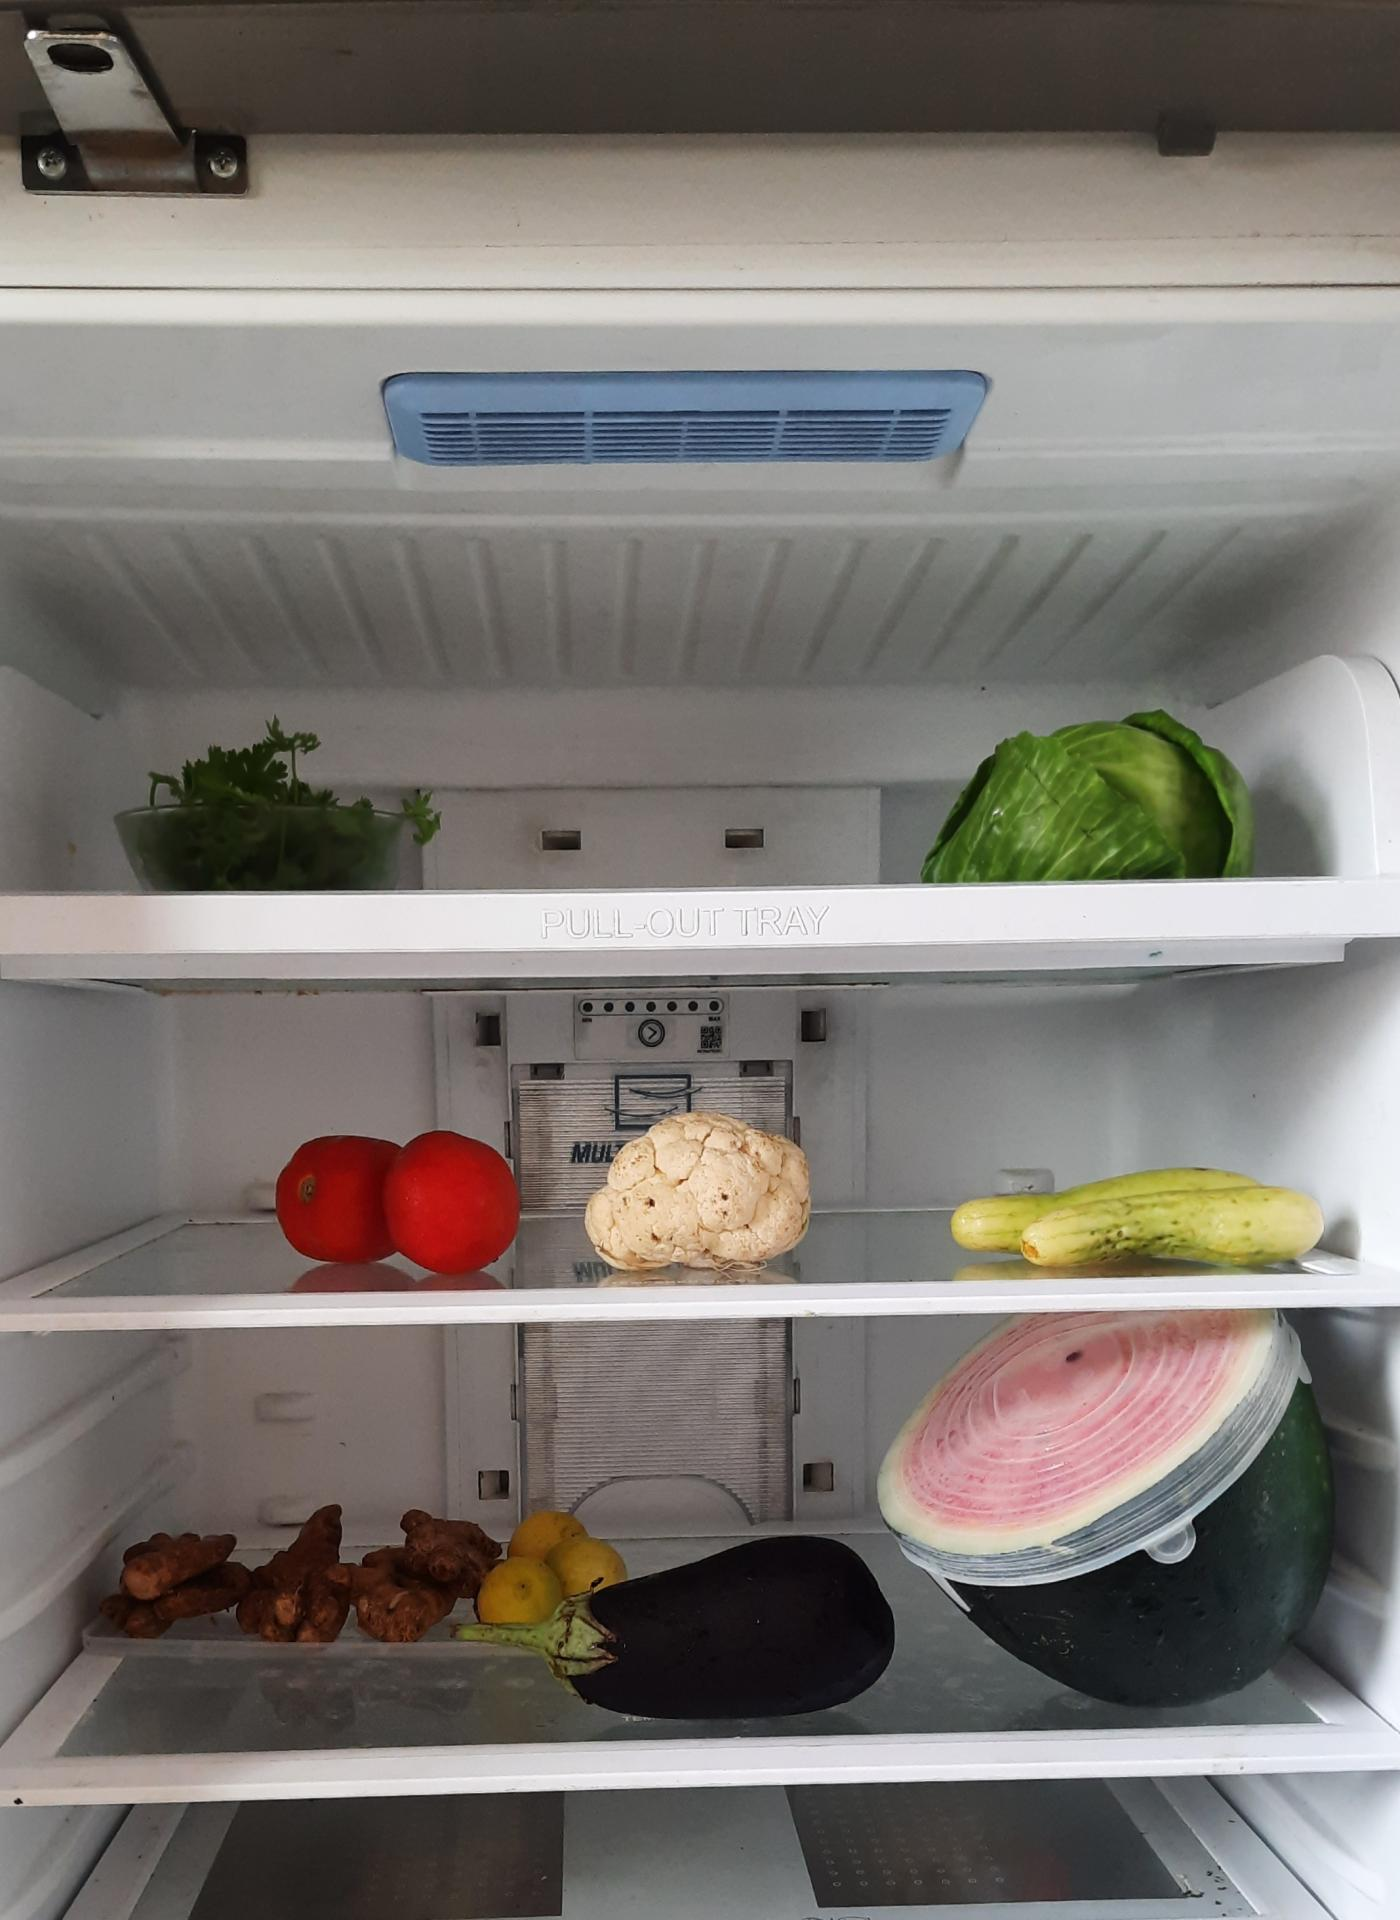brinjal: (494, 1534, 904, 1714)
cabbage: (923, 710, 1260, 881)
cauliflower: (581, 1103, 823, 1260)
coriander: (127, 721, 434, 890)
cucumber: (947, 1173, 1330, 1275)
ginger: (109, 1494, 514, 1658)
lemon: (485, 1503, 625, 1632)
tomato: (277, 1127, 517, 1275)
watermelon: (875, 1294, 1345, 1693)
